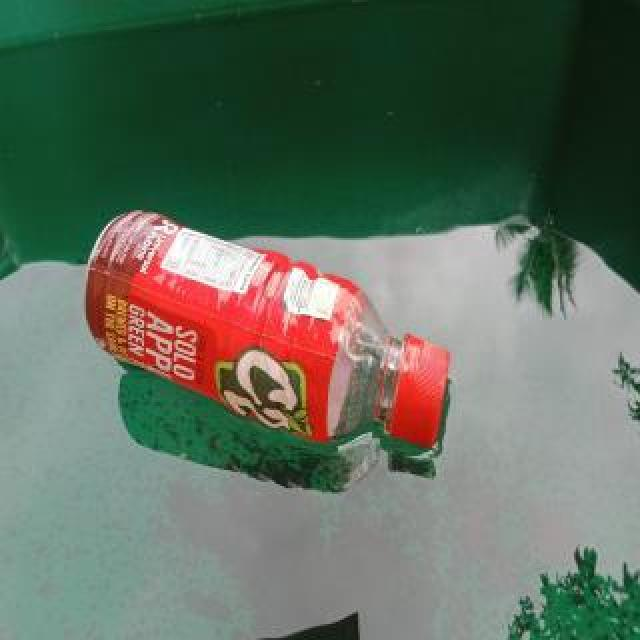bottle: (79, 198, 457, 462)
